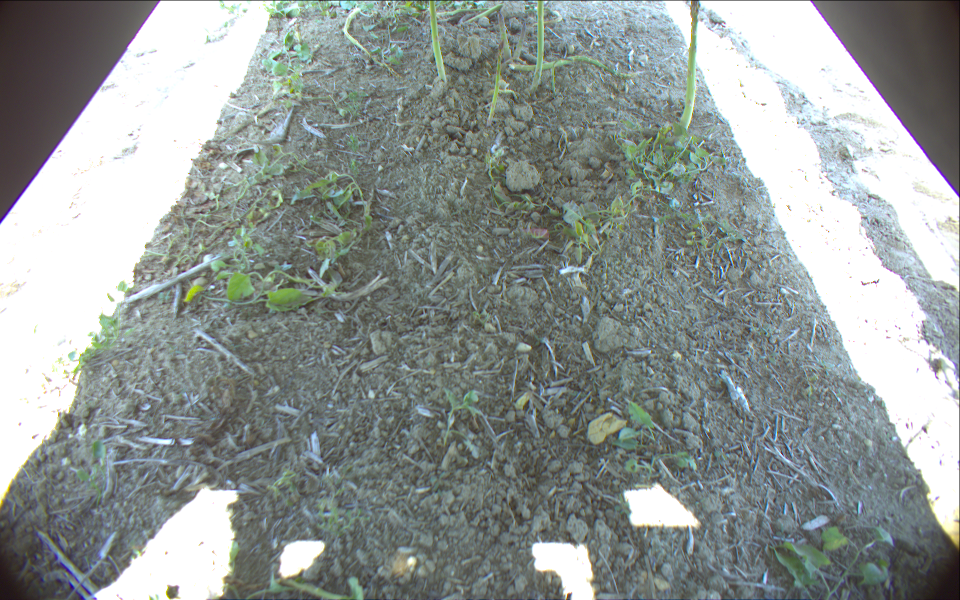aspa: (343, 9, 400, 79), (509, 55, 646, 77), (679, 1, 699, 128), (486, 42, 504, 127), (429, 1, 446, 85), (532, 1, 545, 86), (464, 3, 504, 26), (498, 12, 515, 59), (435, 6, 496, 18), (535, 3, 563, 25), (515, 19, 529, 59)
